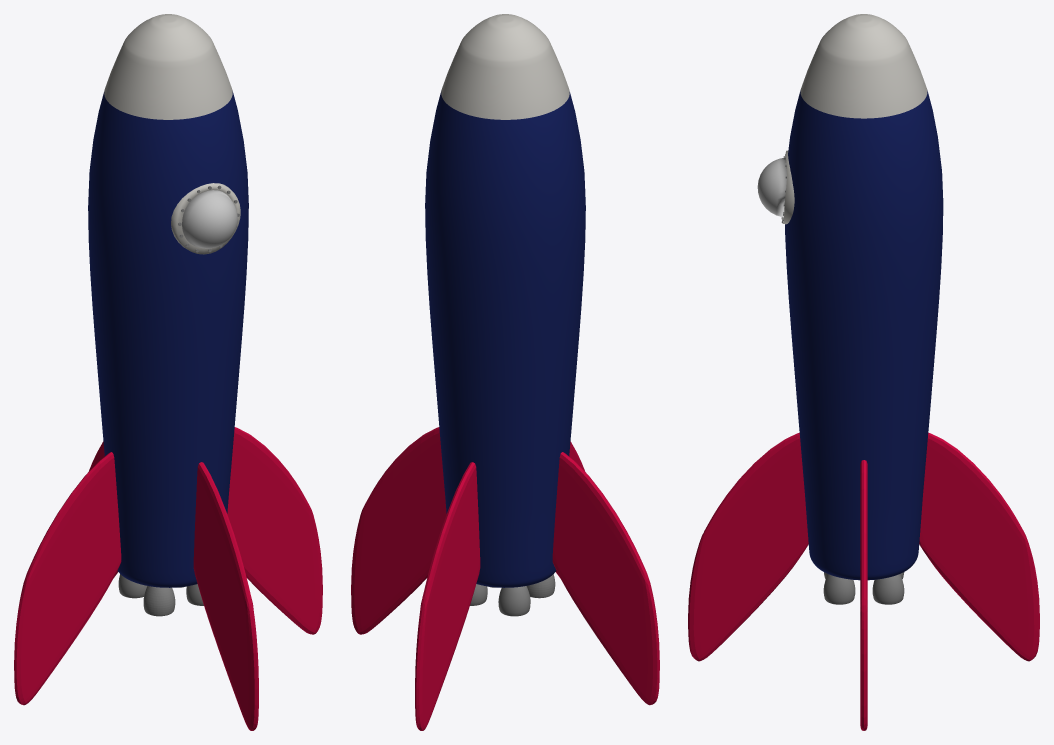
File: rocket_model.fbx
3 renders of one model, left to right at view 1: azimuth 30°, elevation 25°; view 2: azimuth 150°, elevation 25°; view 3: azimuth 270°, elevation 25°, orthographic.
Visible parts, largest first — view 1: Cylinder, Cube.002, Cube, Cube.001, Sphere, Cylinder.001; view 2: Cylinder, Cube.002, Cube, Cube.003, Cylinder.004; view 3: Cylinder, Cube.001, Cube.003, Cube, Sphere, Cylinder.002, Cylinder.003.
Part boxes in pixels (x1,y1,x2,y2): Cylinder: [88, 14, 248, 587]; Cube.002: [14, 452, 121, 705]; Cube: [227, 427, 322, 634]; Cube.001: [193, 462, 258, 730]; Sphere: [171, 183, 240, 254]; Cylinder.001: [143, 586, 175, 616]; Cylinder: [425, 14, 585, 587]; Cube.002: [552, 452, 659, 705]; Cube: [351, 427, 446, 634]; Cube.003: [415, 462, 480, 730]; Cylinder.004: [498, 586, 530, 616]; Cylinder: [785, 14, 943, 580]; Cube.001: [688, 432, 808, 661]; Cube.003: [919, 432, 1039, 661]; Cube: [860, 460, 867, 730]; Sphere: [757, 150, 794, 224]; Cylinder.002: [823, 574, 855, 604]; Cylinder.003: [872, 574, 904, 604].
Bounding box in the file's own units: 554 × 1115 × 554.
